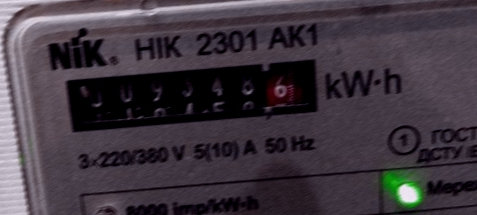0: (88, 82, 104, 109), (118, 79, 135, 103)
3: (179, 73, 195, 100)
4: (209, 70, 225, 98)
6: (271, 72, 290, 100)
8: (239, 69, 256, 98)
9: (148, 76, 165, 104)
screen: (57, 51, 330, 142)
